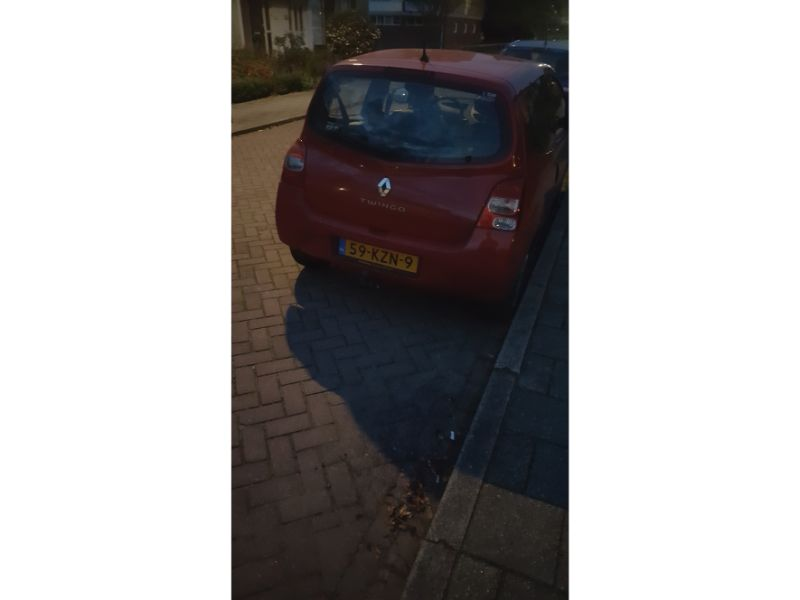kenteken: (335, 237, 421, 276)
